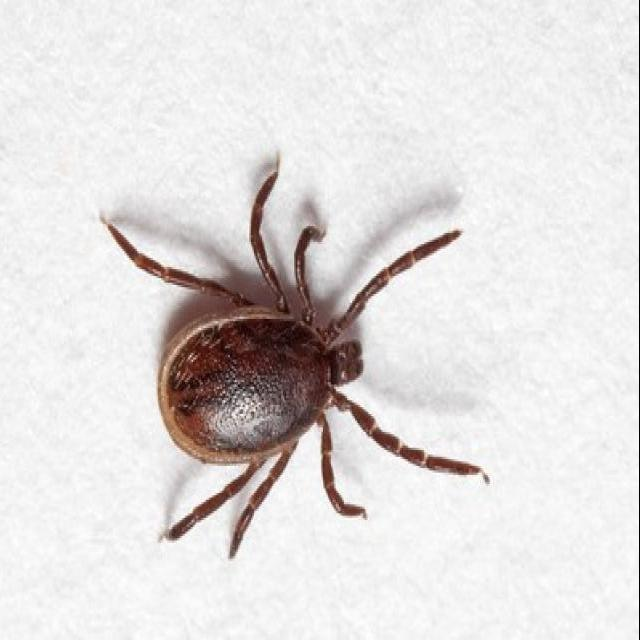Ixodes Ricinus-M: (109, 165, 491, 561)
